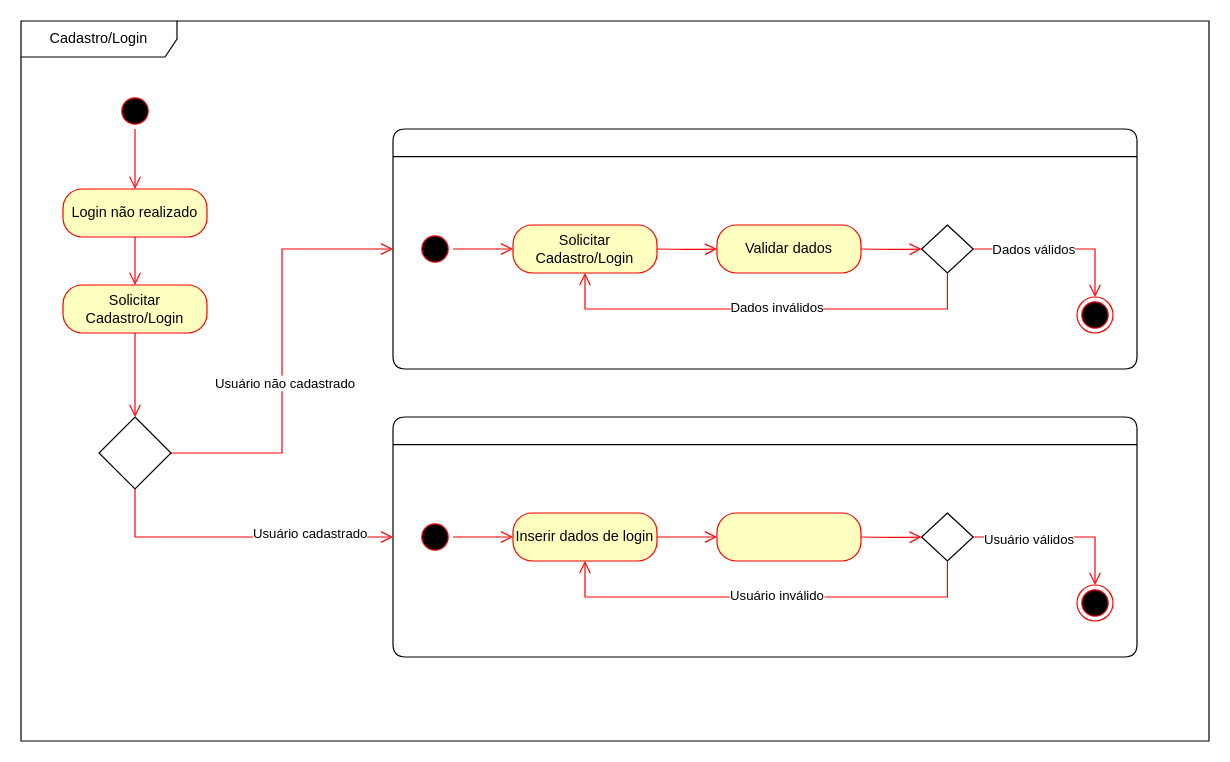
The diagram is 1230 pixels wide and 762 high, and some of its shapes have lost their labels. Here are the shapes that lost their labels. From the top down, the box of each, then its label:
(392, 128, 1137, 369): Realizar cadastro
(392, 416, 1137, 657): Realizar login
(716, 512, 861, 561): Validar login
